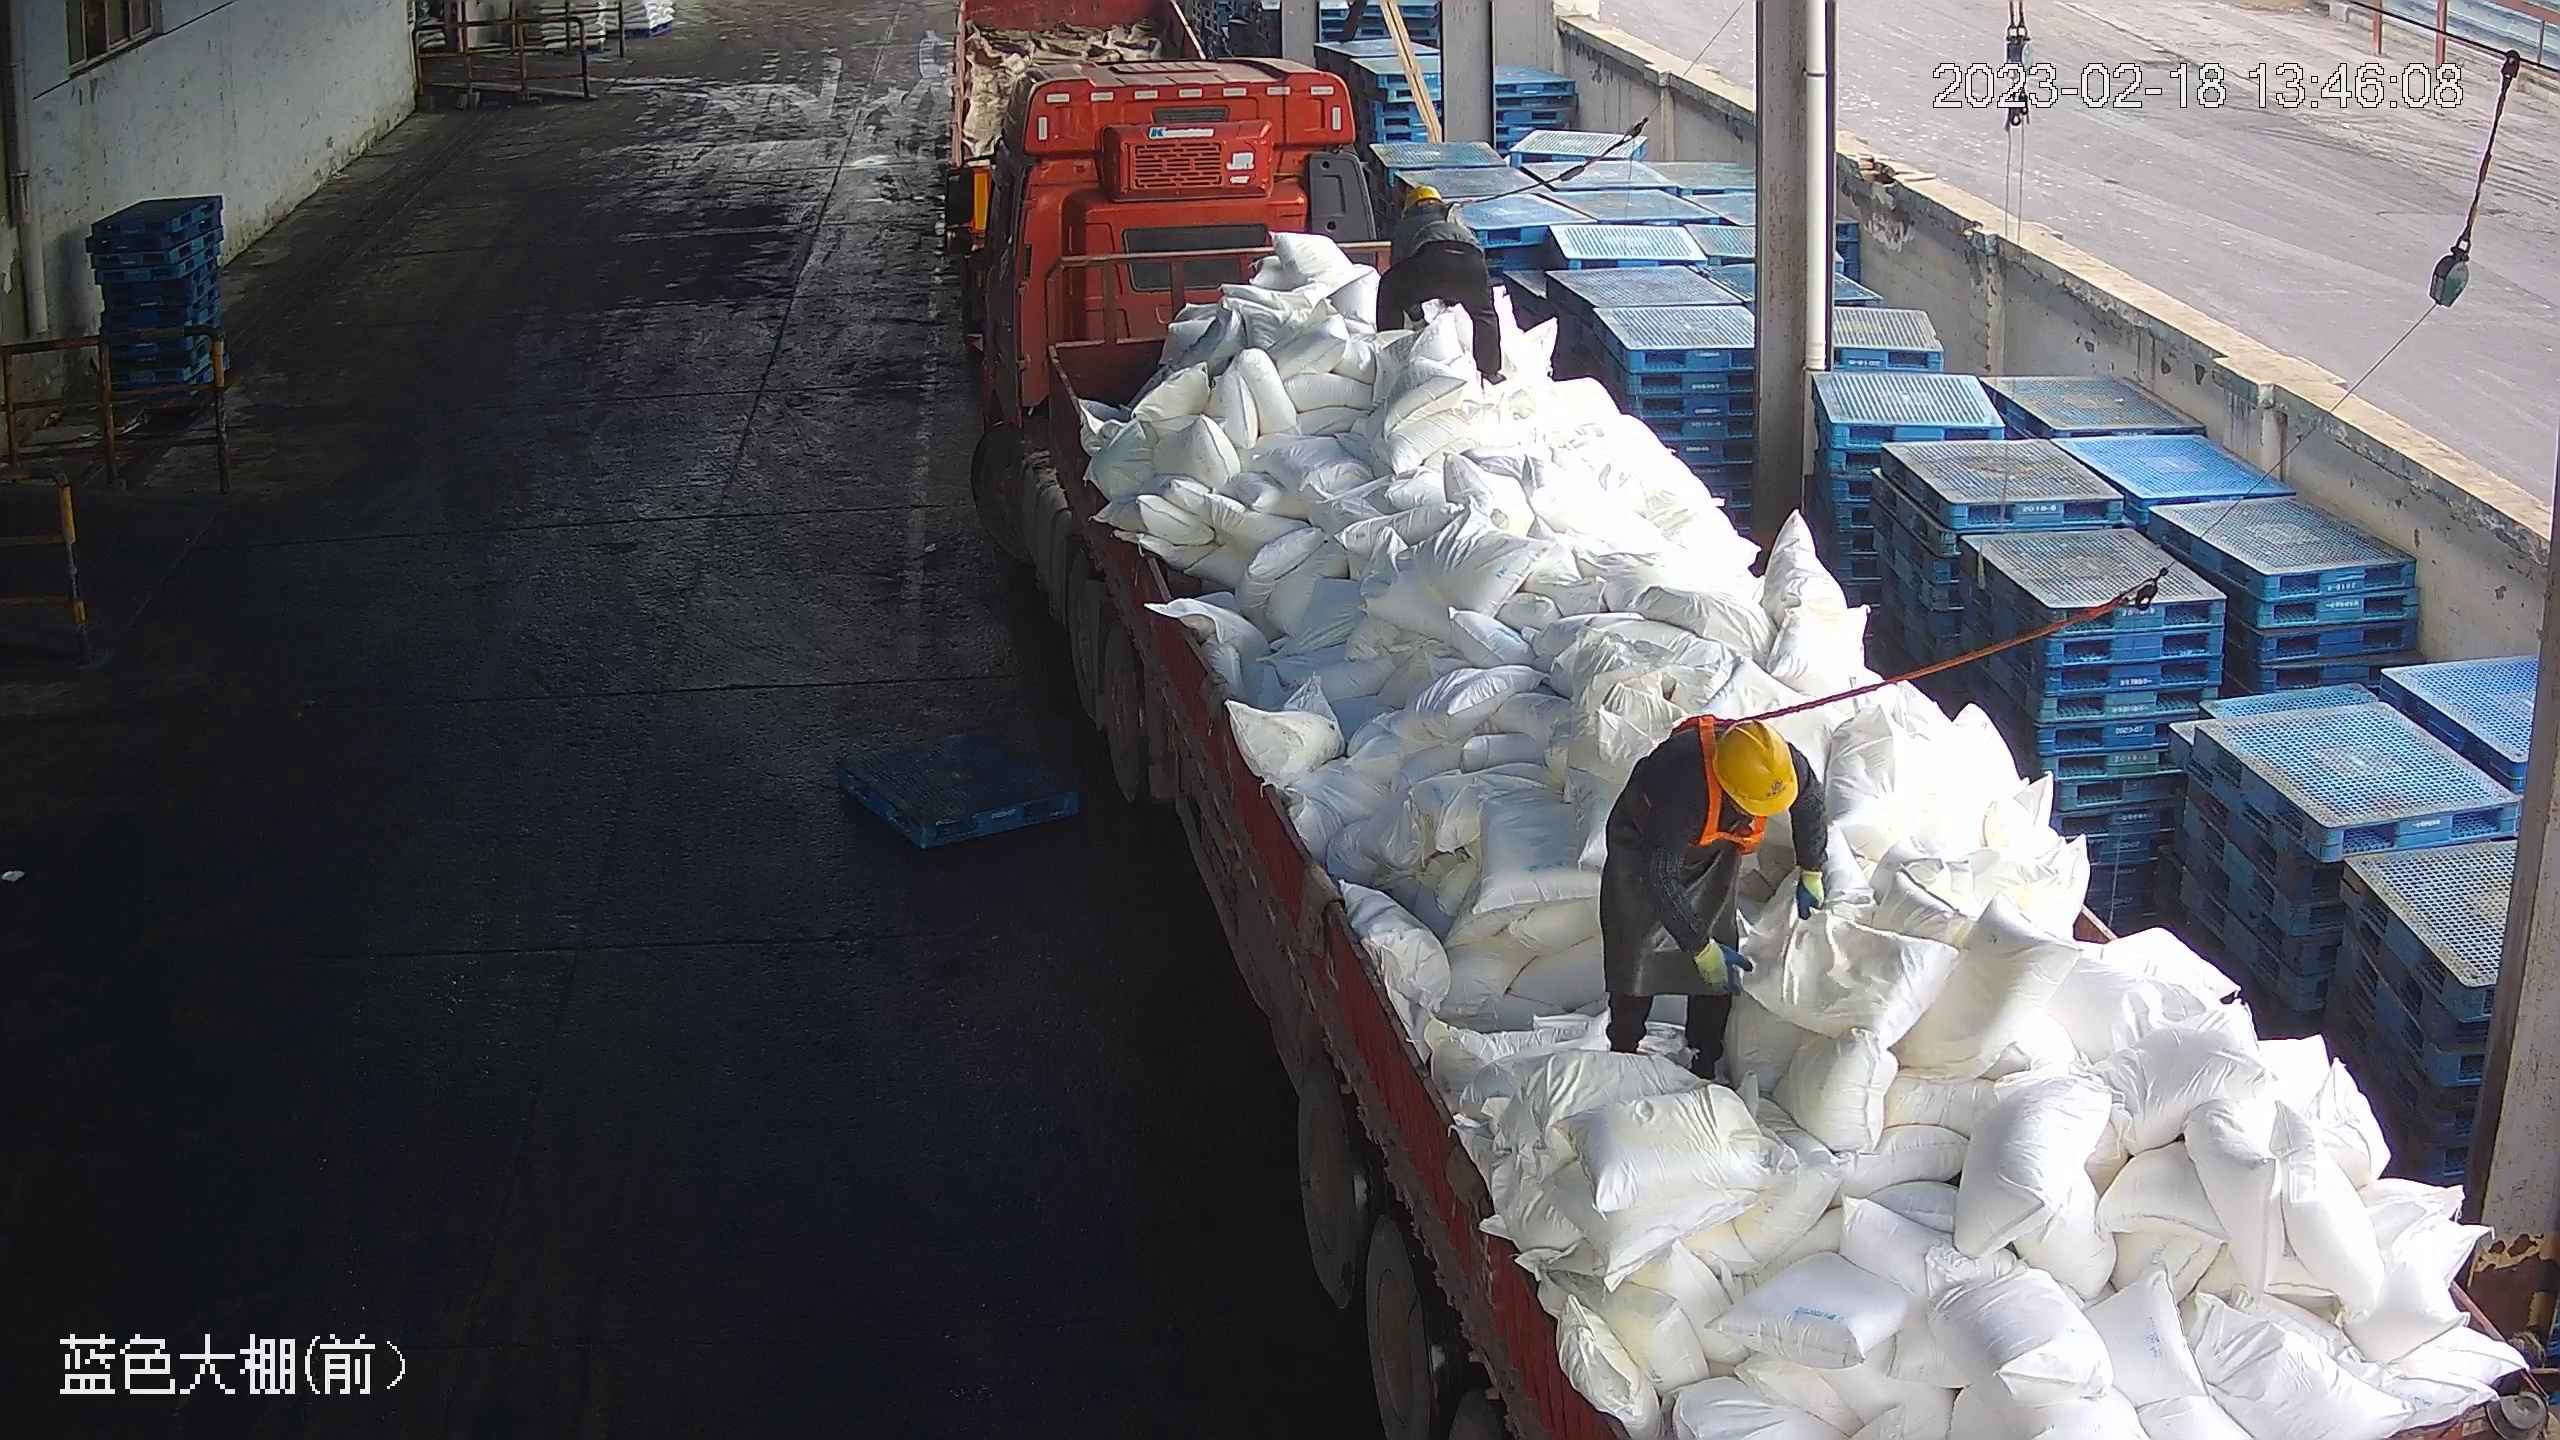belt: (1698, 717, 1787, 853), (1408, 191, 1469, 238)
head: (1635, 709, 1810, 846), (1392, 184, 1468, 235)
helmet: (1710, 718, 1798, 816), (1400, 182, 1444, 217)
people: (1590, 712, 1829, 1095), (1371, 179, 1507, 383)
truck: (956, 141, 2560, 1440)
